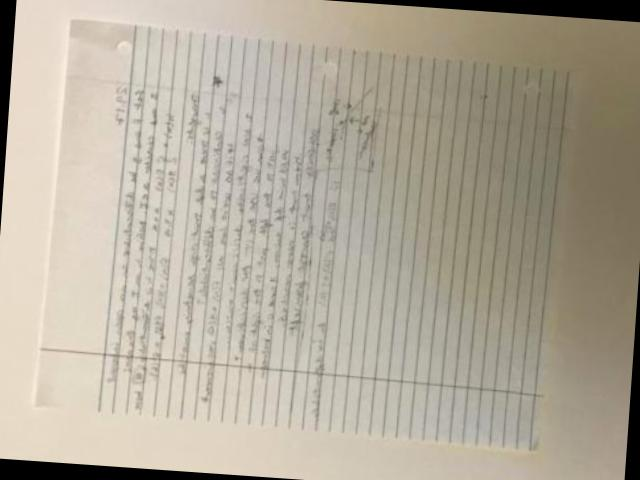cardboard paper: (36, 19, 567, 447)
